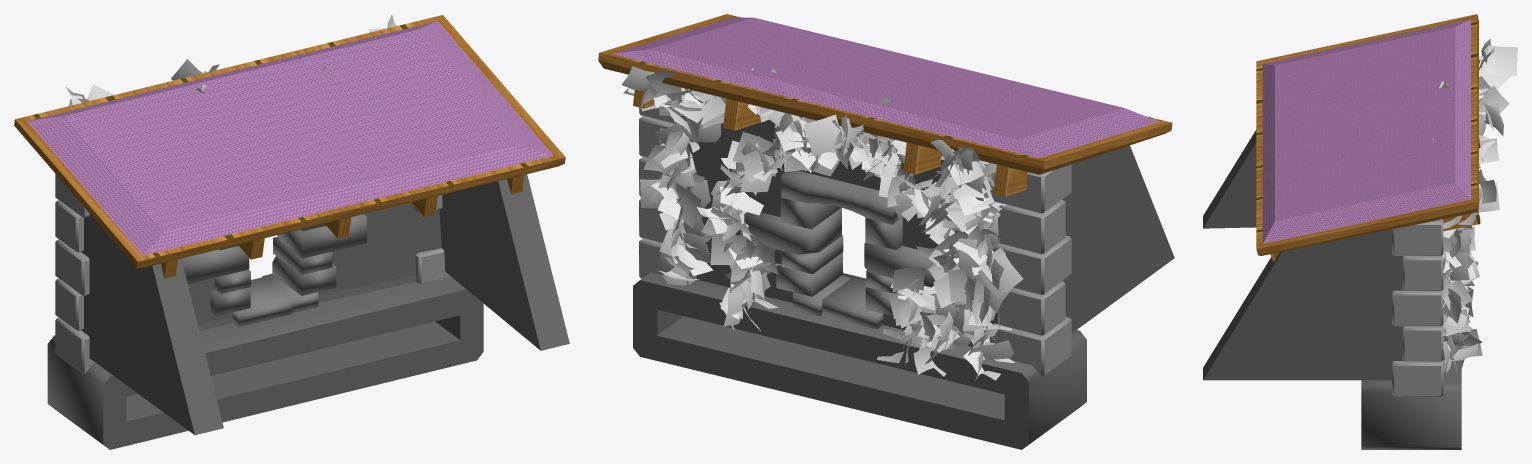
The model's file is StoneWindow.fbx.
3 renders of one model, left to right at view 1: azimuth 30°, elevation 25°; view 2: azimuth 150°, elevation 25°; view 3: azimuth 270°, elevation 25°, orthographic. The views are drawn at different scales.
Visible parts, largest first — view 1: StoneWindowRoof, StoneWindowBuilding, RoadAttach, unit_stone_window.005, unit_stone_window.001, unit_stone_window.008, CornerStonesUnit, unit_stone_window.006, CornerStonesUnit.008, CornerStonesUnit.009, CornerStonesUnit.007, unit_stone_window.003 (+6 smaller); view 2: Vines, StoneWindowRoof, RoadAttach, StoneWindowBuilding, unit_stone_window, unit_stone_window.005, CornerStonesUnit.007, CornerStonesUnit.009, CornerStonesUnit, CornerStonesUnit.008, CornerStonesUnit.006, unit_stone_window.001 (+13 smaller); view 3: StoneWindowRoof, StoneWindowBuilding, Vines, RoadAttach, CornerStonesUnit.003, CornerStonesUnit.005, CornerStonesUnit.001, CornerStonesUnit.004, CornerStonesUnit.002, WoodBeam.001.
Part boxes in pixels (x1,y1,x2,y2): StoneWindowRoof: [14, 15, 565, 268]; StoneWindowBuilding: [81, 174, 569, 435]; RoadAttach: [47, 276, 483, 449]; unit_stone_window.005: [277, 214, 366, 258]; unit_stone_window.001: [232, 277, 292, 327]; unit_stone_window.008: [181, 246, 249, 284]; CornerStonesUnit: [55, 317, 95, 374]; unit_stone_window.006: [272, 256, 336, 295]; CornerStonesUnit.008: [55, 239, 89, 295]; CornerStonesUnit.009: [55, 278, 83, 330]; CornerStonesUnit.007: [55, 200, 83, 252]; unit_stone_window.003: [273, 237, 332, 274]; Vines: [621, 66, 1023, 381]; StoneWindowRoof: [598, 14, 1172, 174]; RoadAttach: [633, 272, 1086, 449]; StoneWindowBuilding: [688, 119, 1174, 346]; unit_stone_window: [781, 170, 899, 224]; unit_stone_window.005: [744, 208, 841, 254]; CornerStonesUnit.007: [998, 199, 1065, 254]; CornerStonesUnit.009: [998, 281, 1065, 335]; CornerStonesUnit: [989, 317, 1071, 376]; CornerStonesUnit.008: [992, 235, 1071, 294]; CornerStonesUnit.006: [990, 164, 1071, 213]; unit_stone_window.001: [822, 277, 883, 329]; StoneWindowRoof: [1256, 14, 1478, 255]; StoneWindowBuilding: [1203, 130, 1403, 380]; Vines: [1432, 39, 1517, 372]; RoadAttach: [1361, 346, 1461, 449]; CornerStonesUnit.003: [1392, 290, 1443, 326]; CornerStonesUnit.005: [1392, 360, 1443, 396]; CornerStonesUnit.001: [1392, 219, 1443, 255]; CornerStonesUnit.004: [1402, 325, 1443, 361]; CornerStonesUnit.002: [1402, 254, 1443, 290]; WoodBeam.001: [1270, 211, 1480, 262].
Size of the model in its own units: 88.48 by 62.68 by 59.29.
